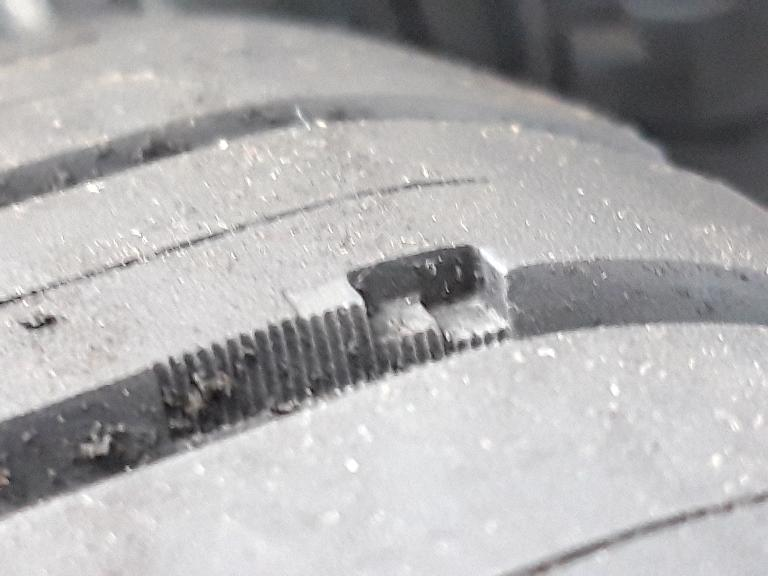temoin:50: (274, 233, 525, 412)
